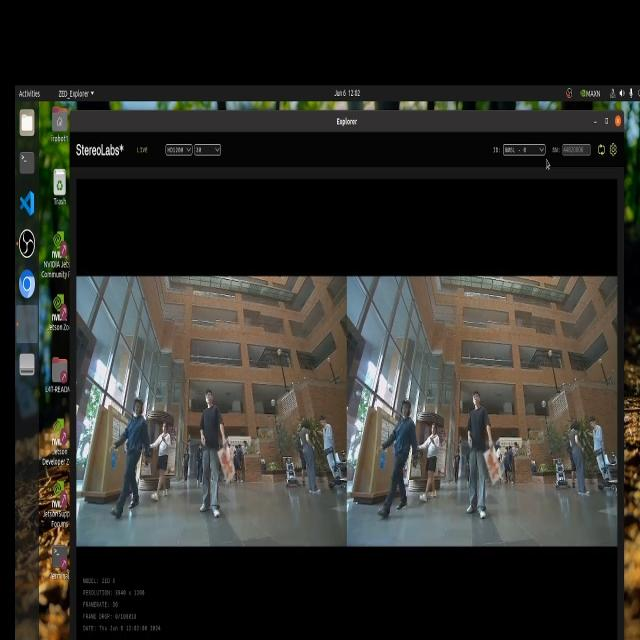red: (485, 449, 503, 486), (221, 449, 238, 482)
